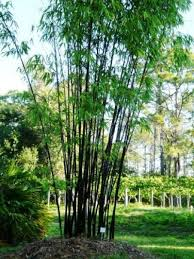bamboo: (48, 2, 127, 242), (52, 4, 188, 95)
